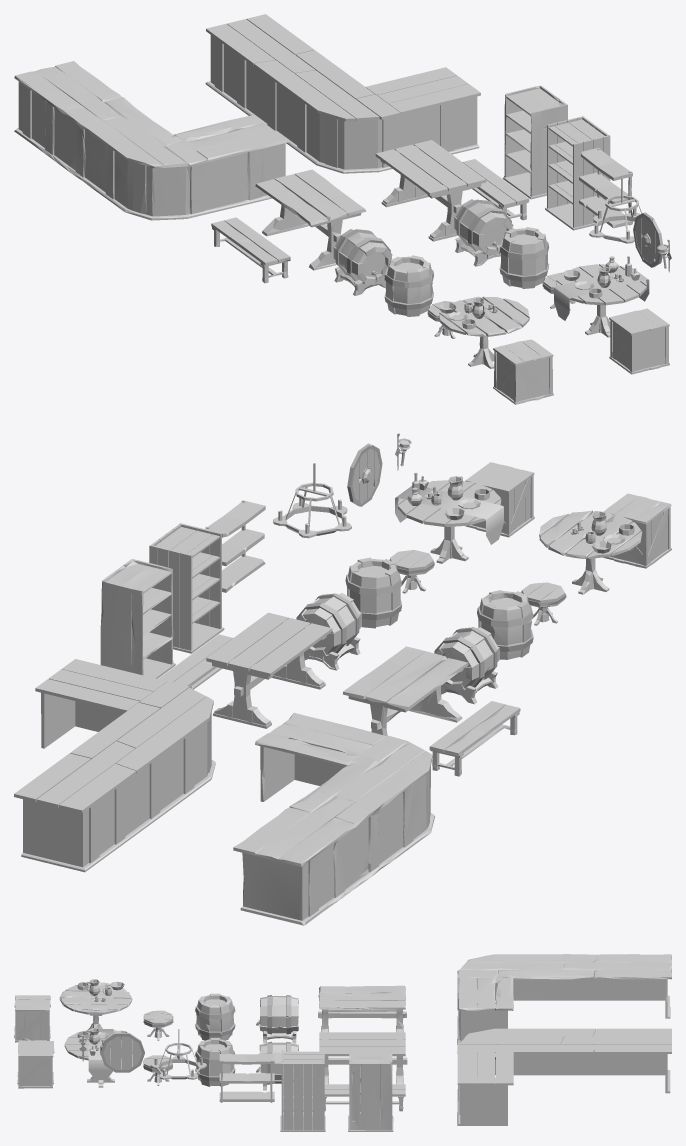
File: lemari1.fbx
3 renders of one model, top to bottom at view 1: azimuth 30°, elevation 25°; view 2: azimuth 150°, elevation 25°; view 3: azimuth 270°, elevation 25°, orthographic. The views are drawn at different scales.
Parts seen in each view (by area): view 1: barCounterShavvy, barCounter, table2, cupboarShabby, cupboard, table2Shabby, box, boxShabby, barrelCraneShabby, table1Shabby, barrelCrane, barrel (+8 smaller); view 2: barCounter, barCounterShavvy, cupboarShabby, table2, cupboard, table2Shabby, table1Shabby, barrel, barrelCraneShabby, barrelCrane, barrelShabby, boxShabby (+10 smaller); view 3: barCounter, barCounterShavvy, cupboard, cupboarShabby, table2Shabby, table2, shelf, box, barrelCraneShabby, boxShabby, table1Shabby, barrelShabby (+9 smaller).
Part boxes in pixels (x1,y1,x2,y2): barCounterShavvy: [14, 61, 288, 220]; barCounter: [205, 14, 480, 173]; table2: [375, 140, 486, 241]; cupboarShabby: [502, 85, 567, 199]; cupboard: [545, 116, 610, 230]; table2Shabby: [255, 169, 366, 270]; box: [609, 308, 669, 374]; boxShabby: [493, 339, 553, 404]; barrelCraneShabby: [333, 229, 392, 295]; table1Shabby: [439, 296, 529, 368]; barrelCrane: [454, 199, 513, 266]; barrel: [499, 227, 549, 288]; barCounter: [14, 659, 215, 872]; barCounterShavvy: [233, 712, 434, 925]; cupboarShabby: [100, 559, 175, 678]; table2: [206, 612, 332, 728]; cupboard: [149, 523, 224, 653]; table2Shabby: [342, 646, 468, 735]; table1Shabby: [539, 510, 642, 594]; barrel: [345, 557, 401, 628]; barrelCraneShabby: [434, 627, 499, 704]; barrelCrane: [296, 593, 361, 670]; barrelShabby: [477, 590, 533, 659]; boxShabby: [603, 493, 671, 568]; barCounter: [457, 1028, 671, 1125]; barCounterShavvy: [457, 954, 671, 1044]; cupboard: [280, 1050, 325, 1131]; cupboarShabby: [348, 1050, 393, 1131]; table2Shabby: [318, 985, 406, 1032]; table2: [319, 1032, 407, 1084]; shelf: [219, 1054, 274, 1102]; box: [17, 1041, 54, 1088]; barrelCraneShabby: [256, 995, 298, 1043]; boxShabby: [14, 995, 50, 1042]; table1Shabby: [59, 982, 132, 1030]; barrelShabby: [195, 993, 235, 1040].
Bounding box in the file's own units: 887 × 254 × 1797.
